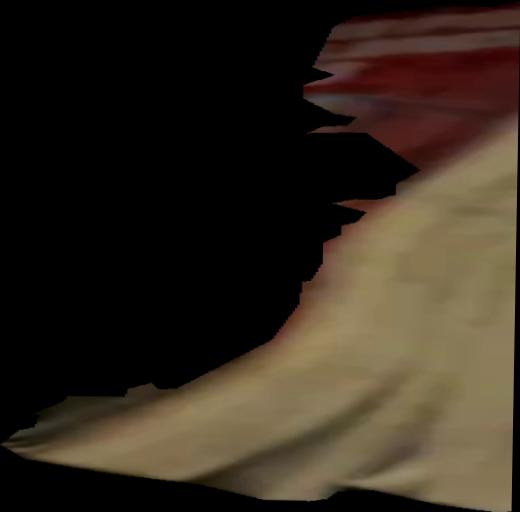backward: (1, 1, 520, 512)
